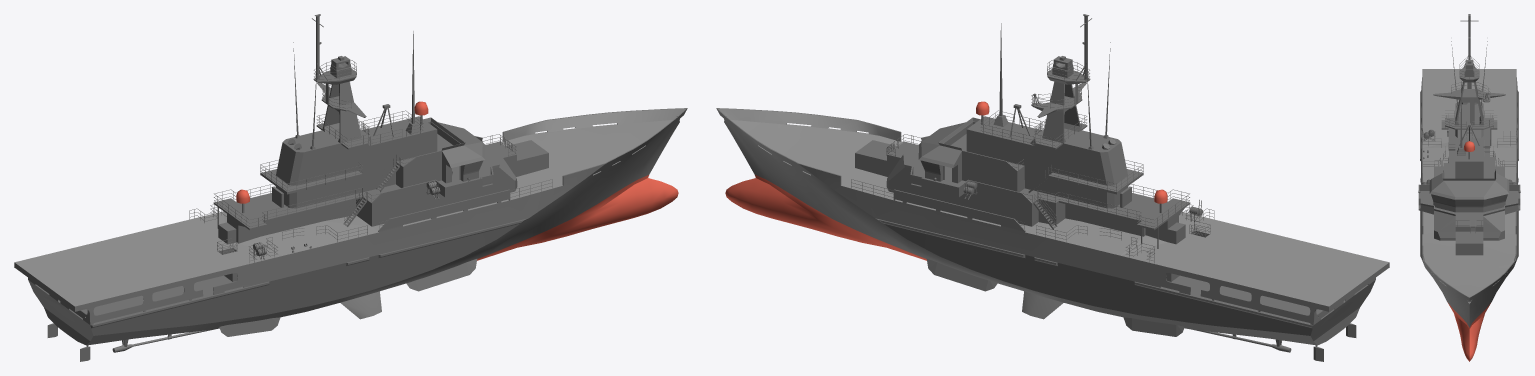
Rendered from Kruvazör.fbx.
The picture shows the model from 3 angles, left to right: view 1: azimuth 30°, elevation 25°; view 2: azimuth 150°, elevation 25°; view 3: azimuth 270°, elevation 25°; orthographic projection. The views are drawn at different scales.
Visible parts, largest first — view 1: Cruiser; view 2: Cruiser; view 3: Cruiser.
Part boxes in pixels (<box>): Cruiser: <box>14,14,687,361</box>; Cruiser: <box>716,14,1389,361</box>; Cruiser: <box>1418,14,1520,361</box>.
Size of the model in its own units: 2591 by 1127 by 460.
